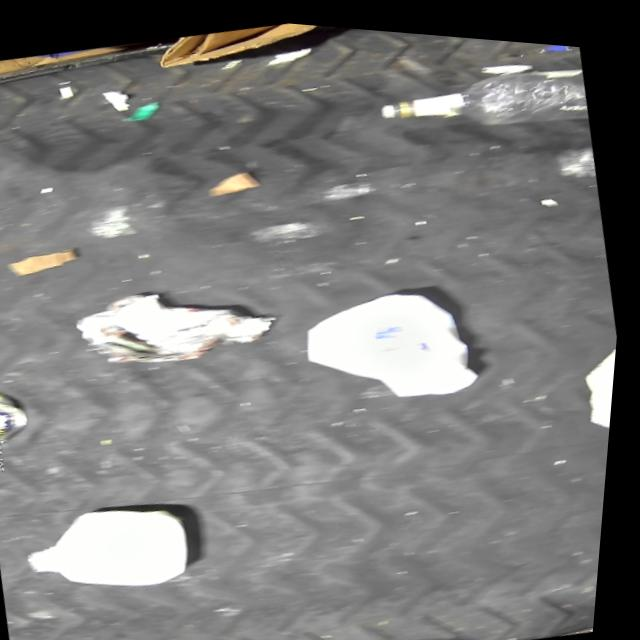milk_jug: (294, 262, 494, 418), (22, 484, 207, 611)
plastic_bottle: (372, 41, 593, 154)
